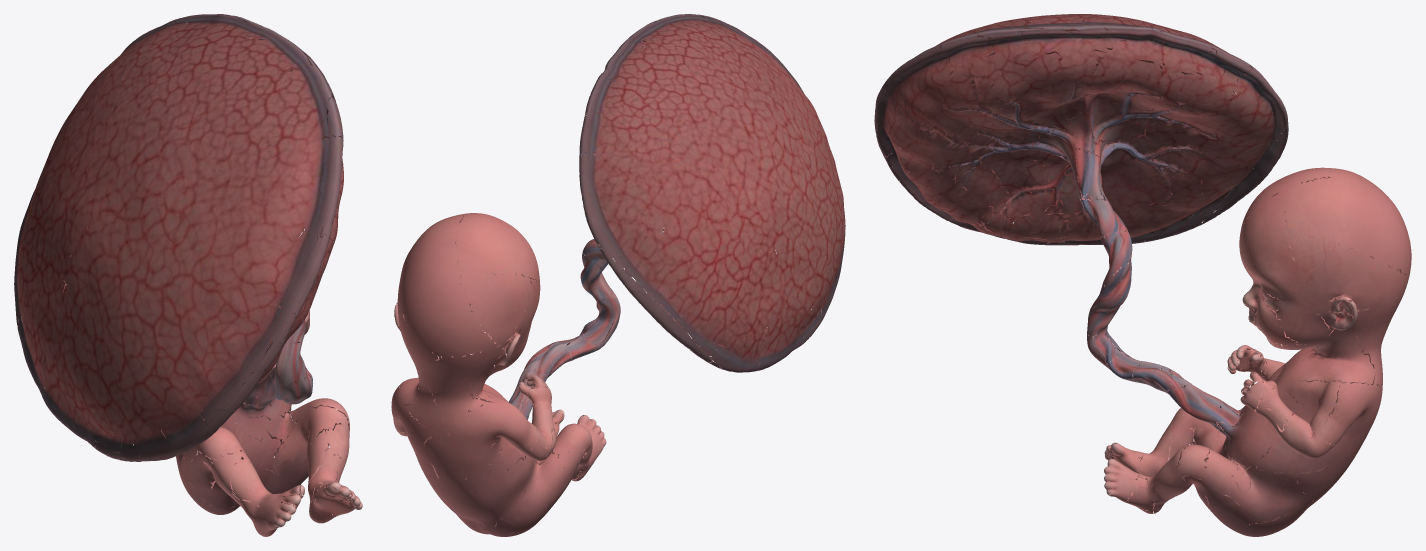
Rendered from stade-05.glb.
3 views of the same model, side by side, from view 1: azimuth 30°, elevation 25°; view 2: azimuth 150°, elevation 25°; view 3: azimuth 270°, elevation 25° (orthographic). The views are drawn at different scales.
Size of the model in its own units: 1.27 by 1.86 by 1.9.
Materials: 1 (1 with a texture image).
